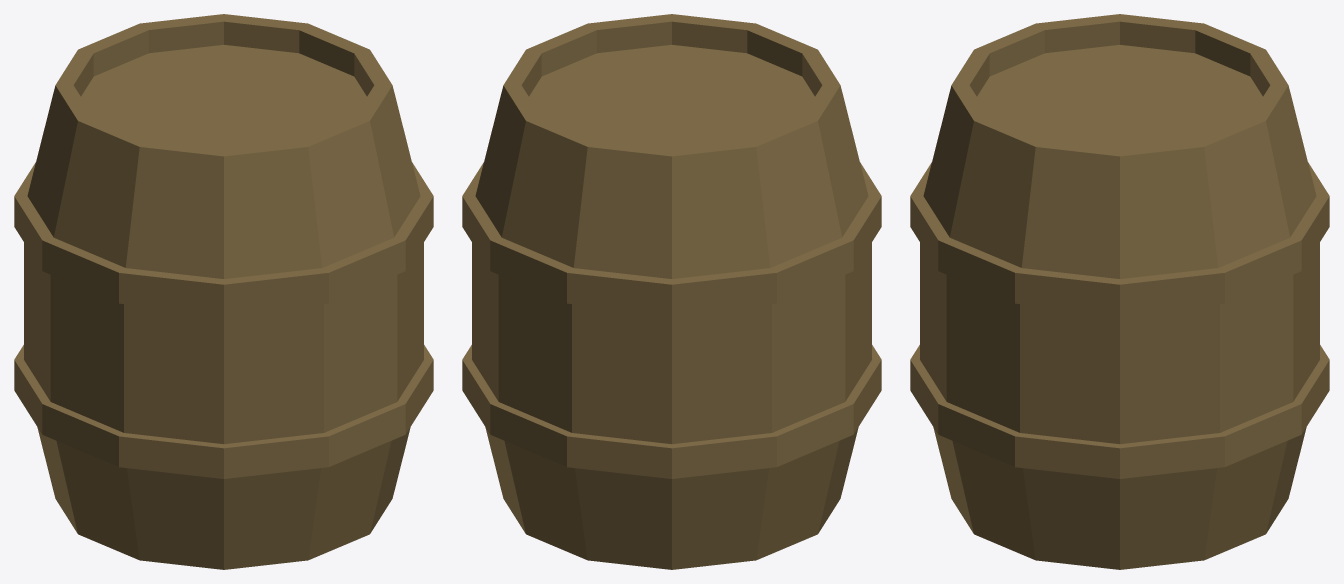
File: Barrel.fbx
The picture shows the model from 3 angles, left to right: view 1: azimuth 30°, elevation 25°; view 2: azimuth 150°, elevation 25°; view 3: azimuth 270°, elevation 25°; orthographic projection.
Visible parts, largest first — view 1: Barrel; view 2: Barrel; view 3: Barrel.
Part boxes in pixels (<box>): Barrel: <box>14,14,433,569</box>; Barrel: <box>462,14,881,569</box>; Barrel: <box>910,14,1329,569</box>.
Bounding box in the file's own units: 249 × 271 × 249.
